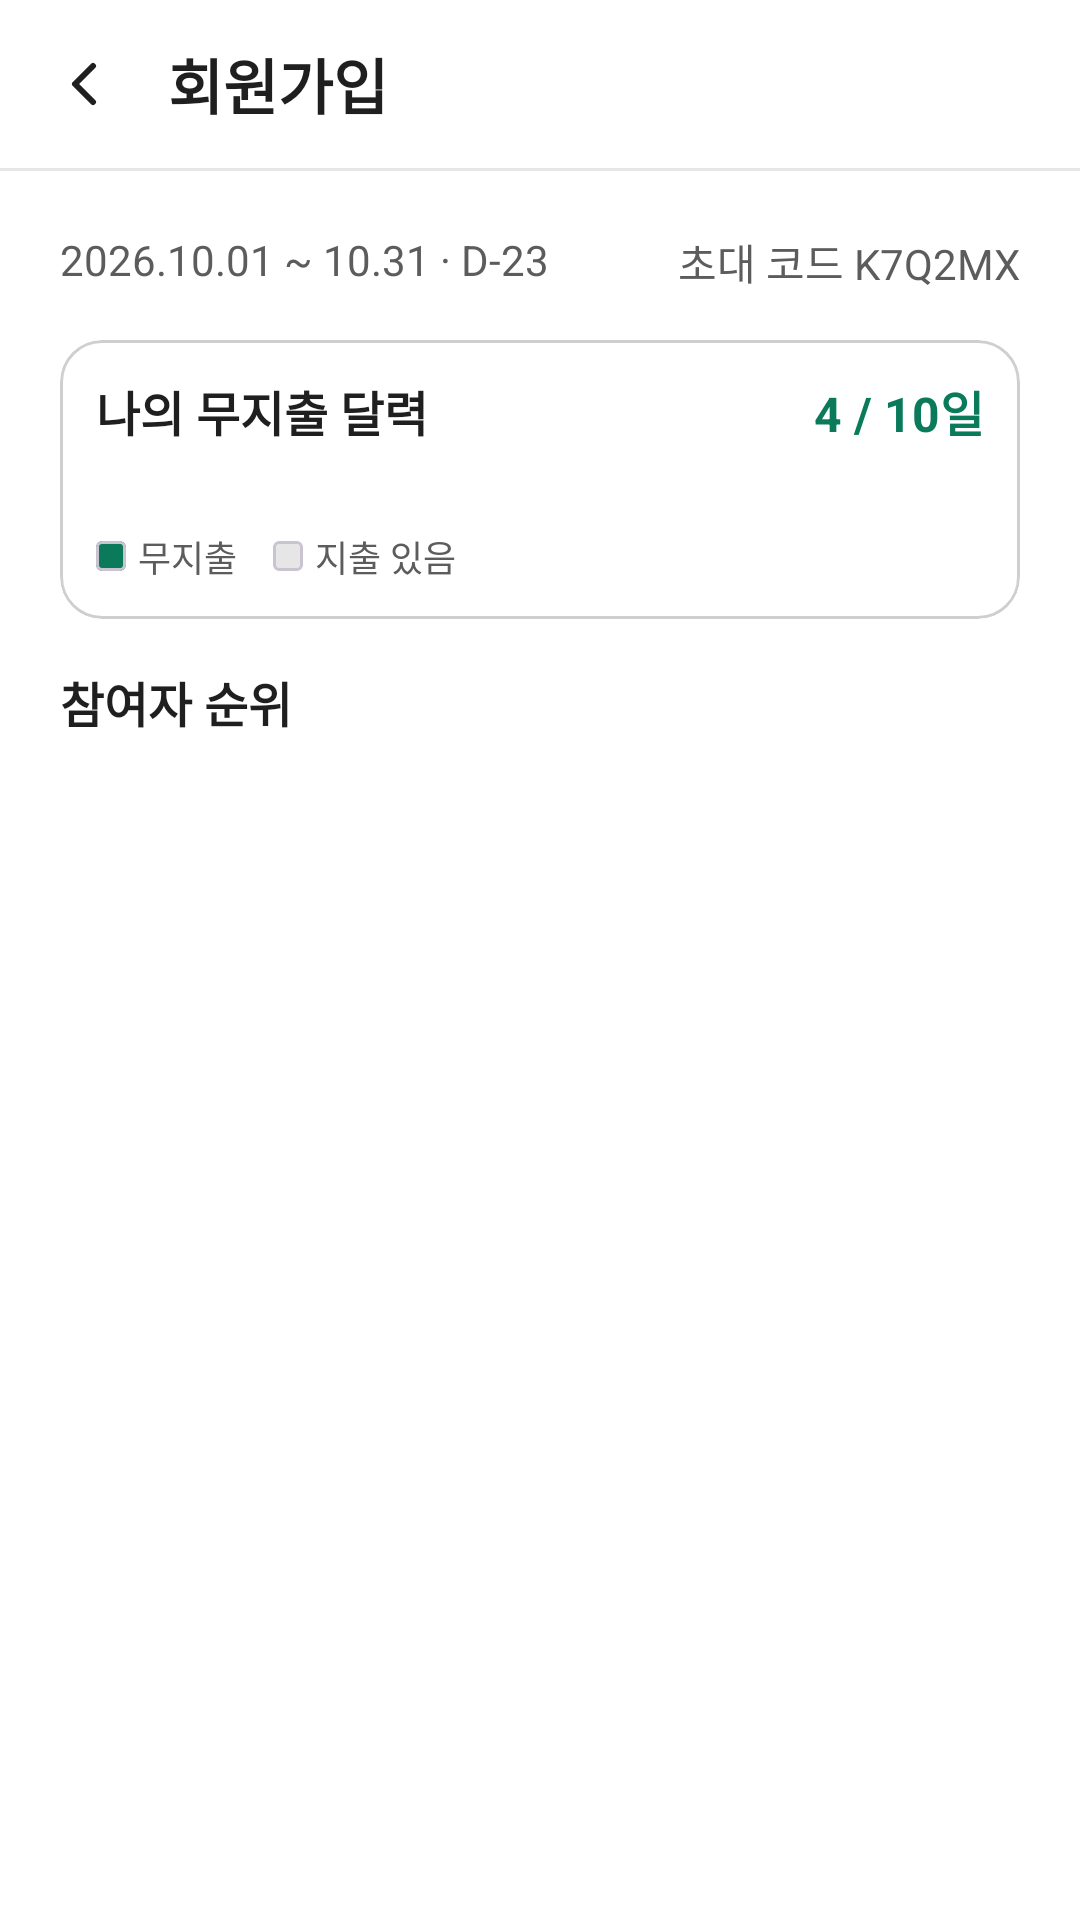

Named icons in this screenshot (1080 × 1920) and their centers, (x=x, y=y):
뒤로 가기: (x=84, y=84)
